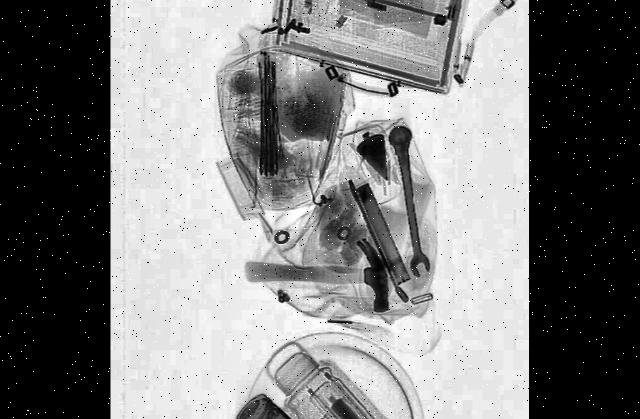Wrench: (387, 121, 432, 280)
